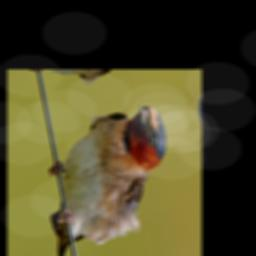Swallow: (33, 90, 183, 256)
